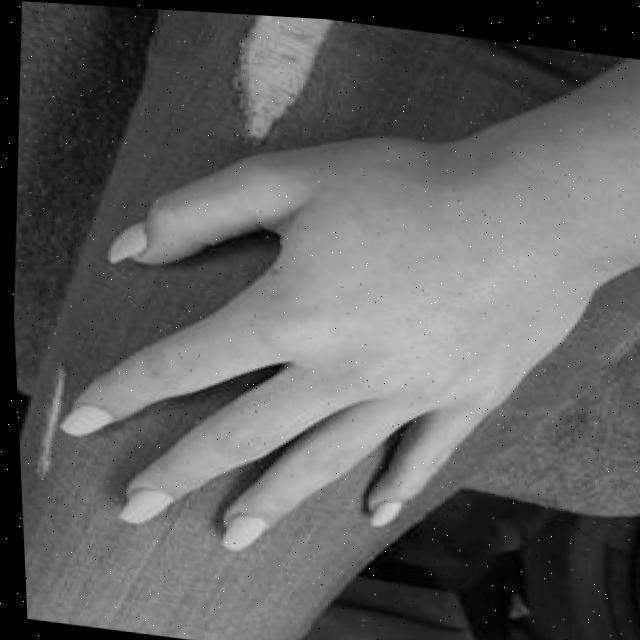no-gloves: (37, 94, 612, 592)
